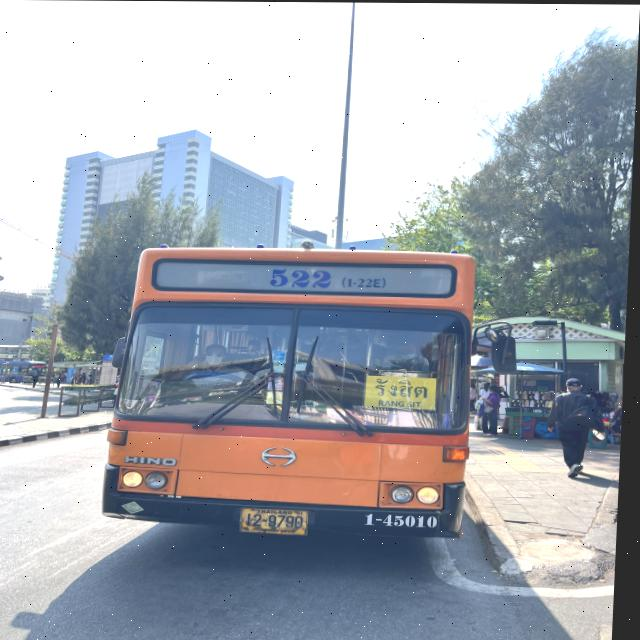BMTA-bus: (104, 247, 481, 541)
Bus-Line-Number: (270, 264, 393, 293)
Destination-Sign-Normal-Expressway: (363, 373, 444, 412)
